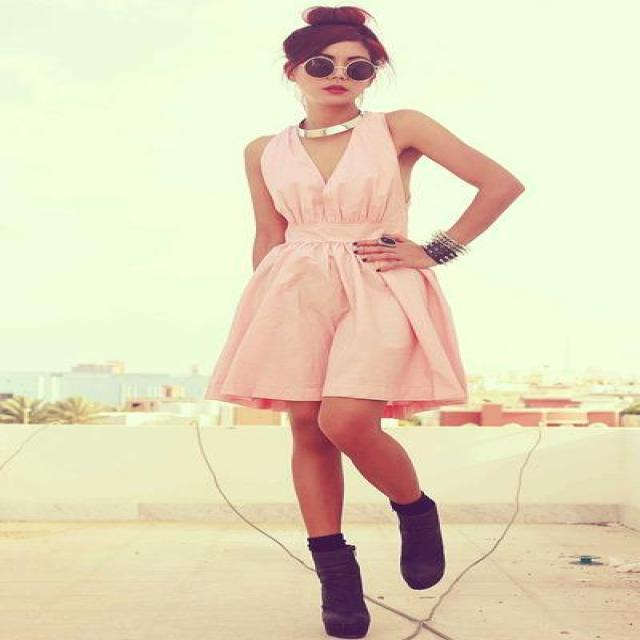dress: (229, 111, 454, 404)
shoe: (307, 499, 443, 638)
sunglass: (288, 50, 333, 77)
